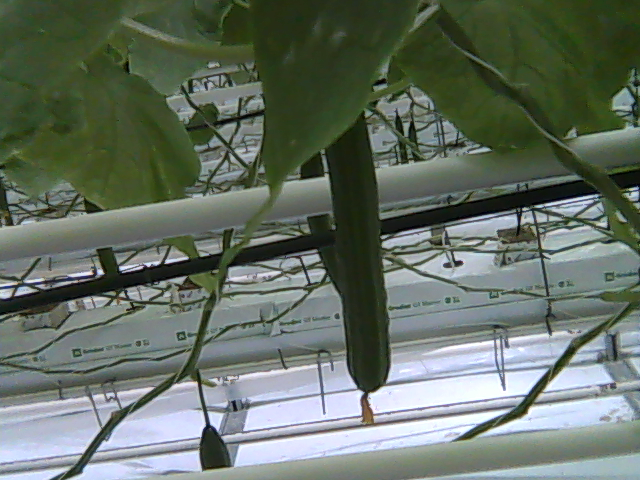concombre: (321, 110, 395, 427)
